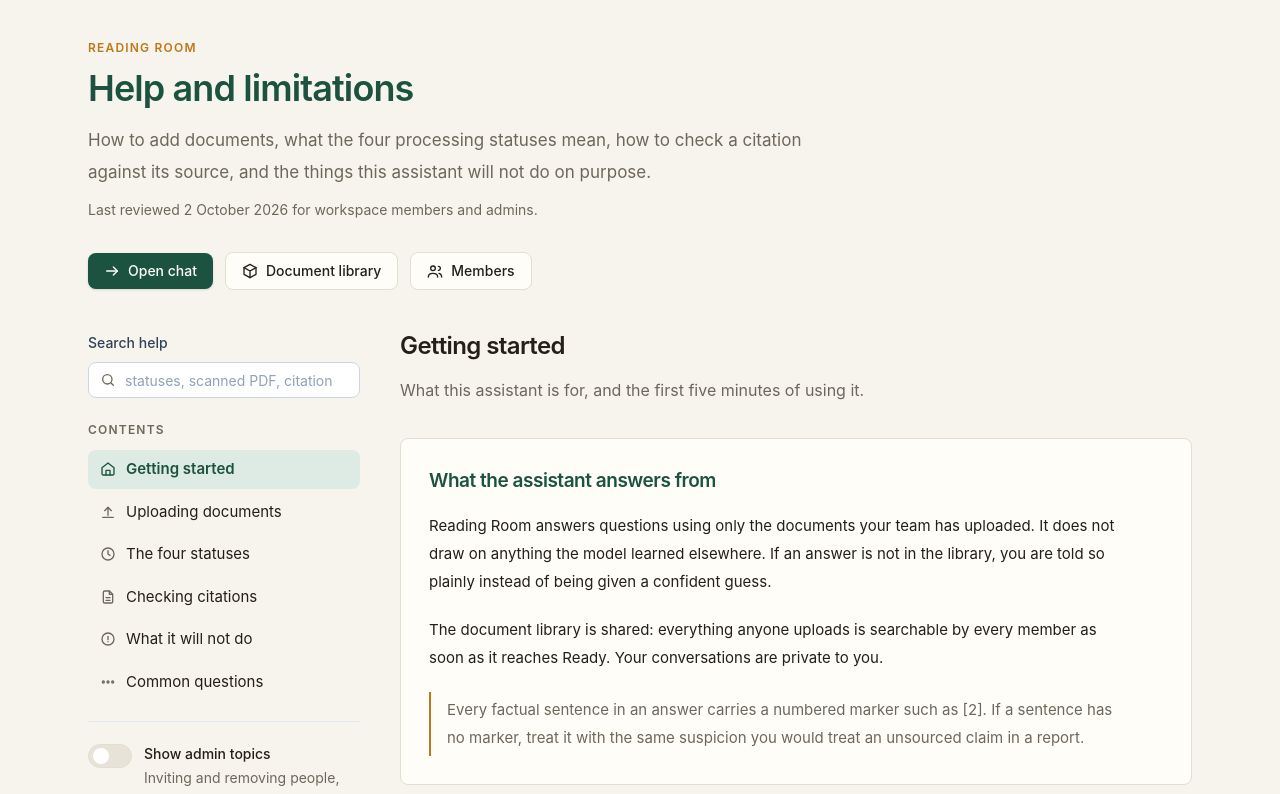
Test case: Help screen › lists all four document statuses with their meaning
This screenshot has width=1280, height=794.
What coordinates should you click on to do the following:
click the tab "The four statuses"
I would click on:
 (224, 554)
Its box is [88, 535, 360, 574].
(page scrolled)
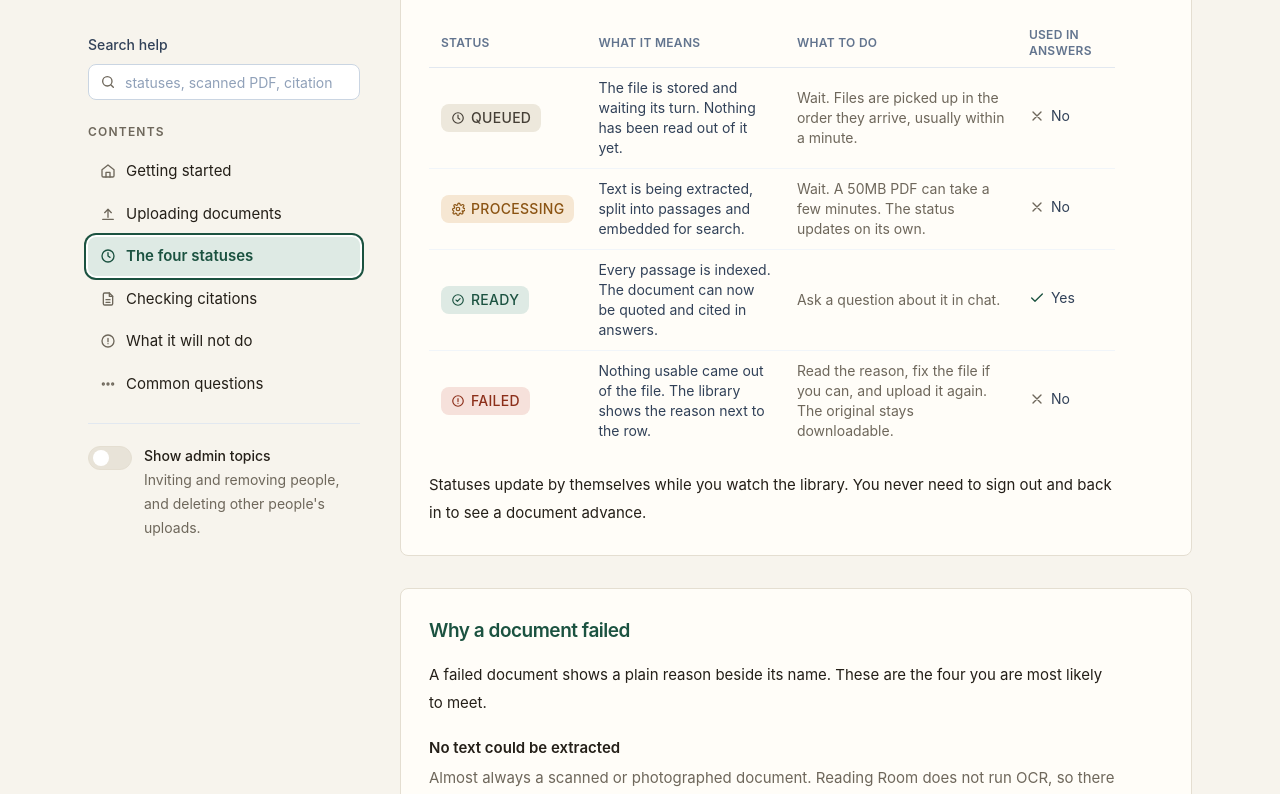
Expected: the text "Queued" is shown, [441, 104, 541, 132]
Expected: the text "Failed" is shown, [441, 386, 530, 414]
